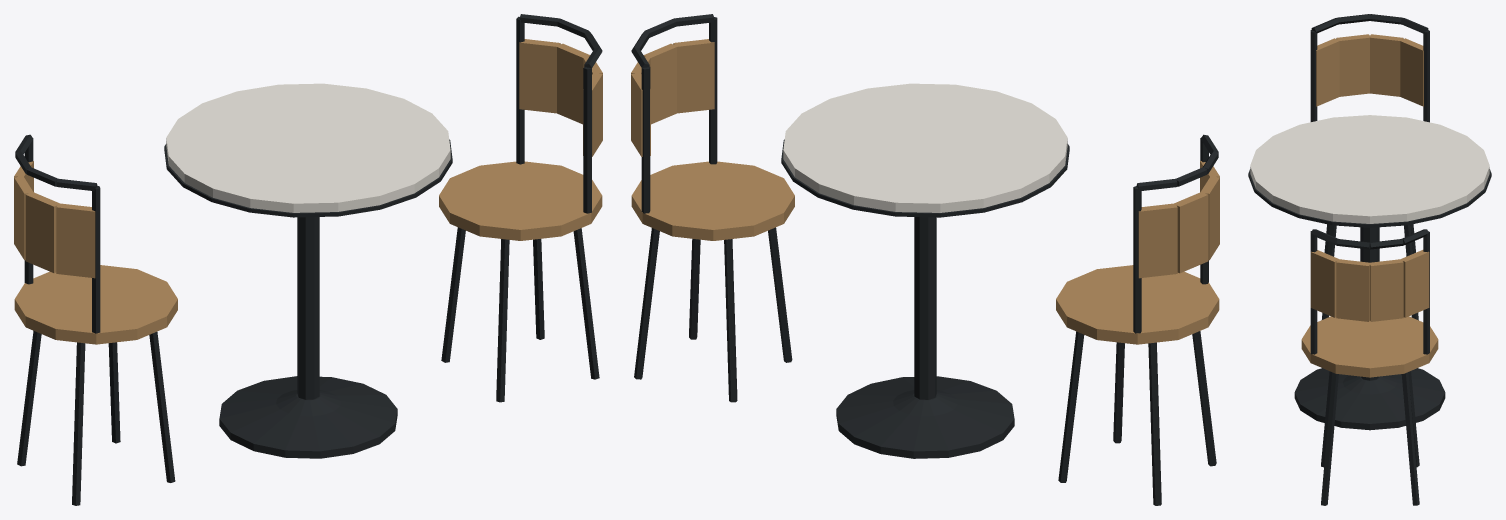
File: cafe-table.glb
3 renders of one model, left to right at view 1: azimuth 30°, elevation 25°; view 2: azimuth 150°, elevation 25°; view 3: azimuth 270°, elevation 25°, orthographic. The views are drawn at different scales.
Visible parts, largest first — view 1: cafe-table; view 2: cafe-table; view 3: cafe-table.
Boxes of the visible parts, <box> form: cafe-table: <box>14,14,602,505</box>; cafe-table: <box>631,14,1219,505</box>; cafe-table: <box>1248,14,1491,505</box>.
Size of the model in its own units: 1.6 by 0.8717 by 0.71.
